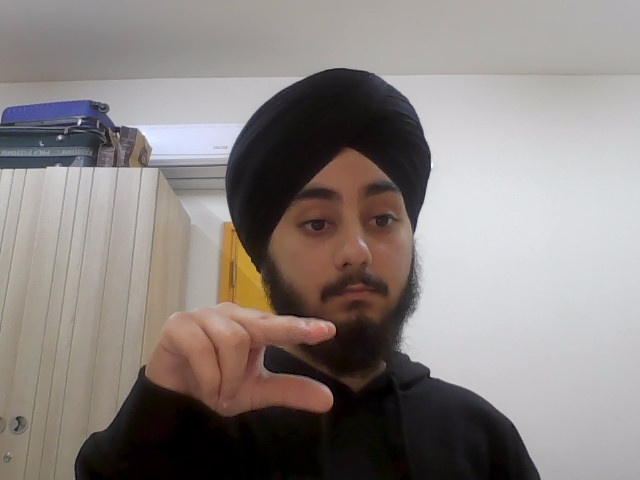No: (154, 298, 334, 422)
